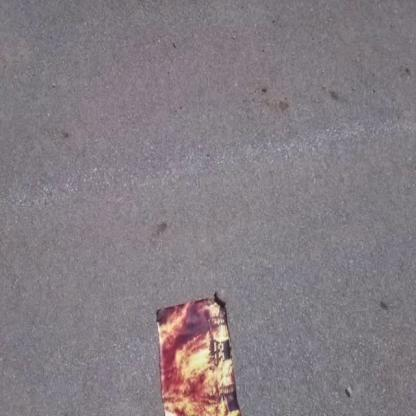fire-poster: (154, 290, 245, 415)
